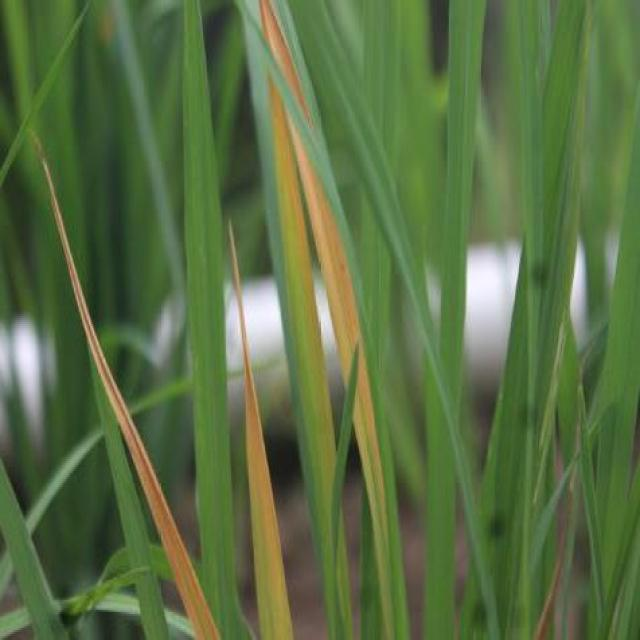Tungro: (42, 141, 240, 640), (256, 0, 386, 447), (211, 257, 306, 640)
